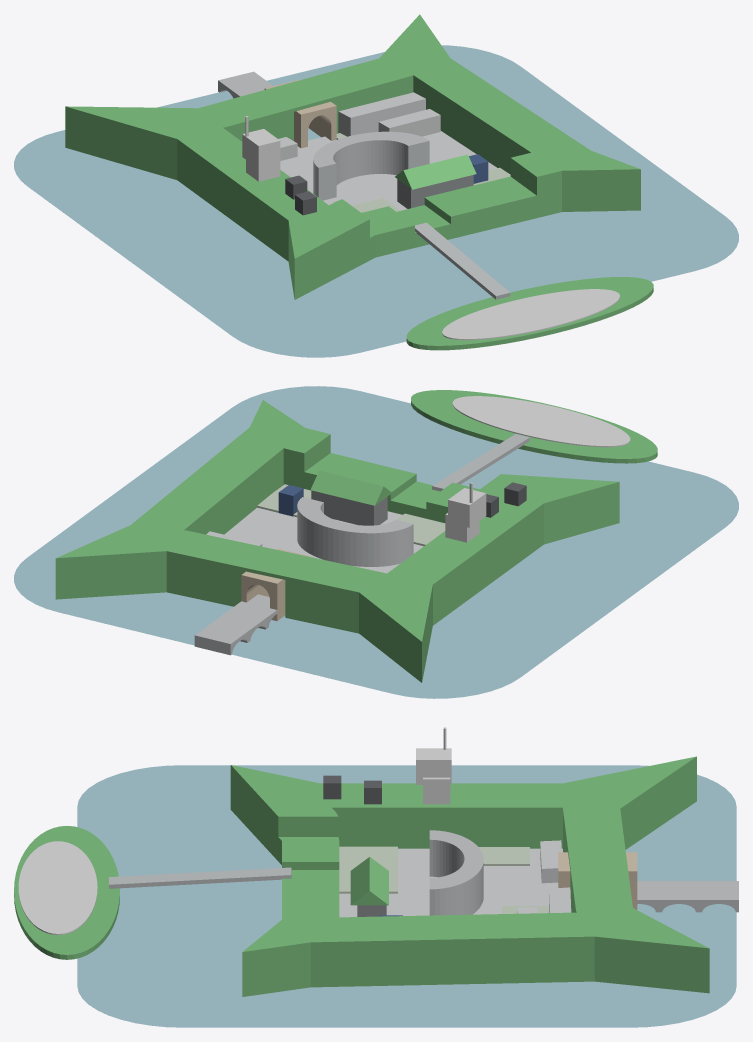
File: fort2.glb
3 views of the same model, one above another, from view 1: azimuth 30°, elevation 25°; view 2: azimuth 150°, elevation 25°; view 3: azimuth 270°, elevation 25° (orthographic). The views are drawn at different scales.
Parts seen in each view (by area): view 1: Mesh_Mesh_head_geo.001_lambert2SG.001; view 2: Mesh_Mesh_head_geo.001_lambert2SG.001; view 3: Mesh_Mesh_head_geo.001_lambert2SG.001.
Boxes of the visible parts, box(x1,y1,x2,y2) form: Mesh_Mesh_head_geo.001_lambert2SG.001: box(14, 14, 738, 357); Mesh_Mesh_head_geo.001_lambert2SG.001: box(14, 386, 738, 698); Mesh_Mesh_head_geo.001_lambert2SG.001: box(14, 727, 738, 1027).
Bounding box in the file's own units: 0.275 × 0.054 × 0.321.
